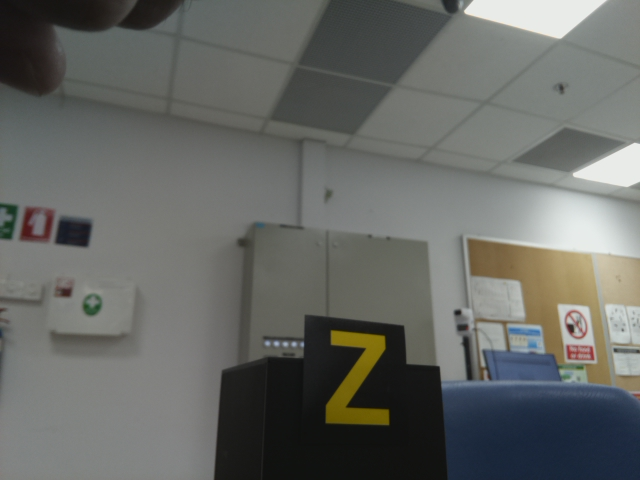z: (319, 322, 397, 434)
